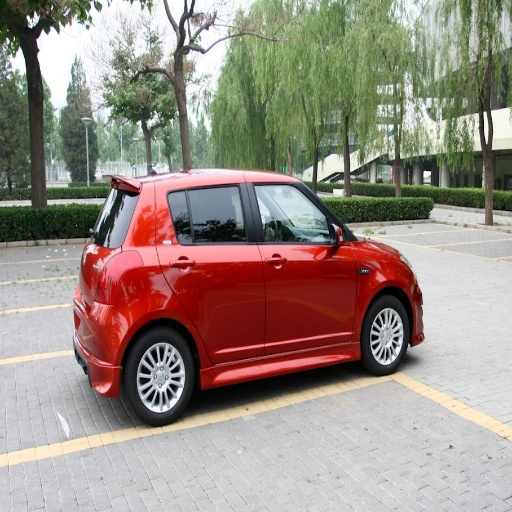back_bumper: (73, 301, 130, 368)
back_right_door: (157, 178, 264, 365)
